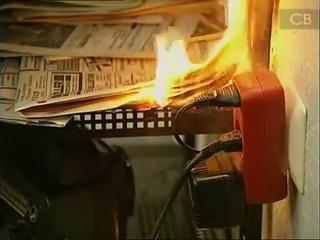Fire: (139, 0, 263, 106)
